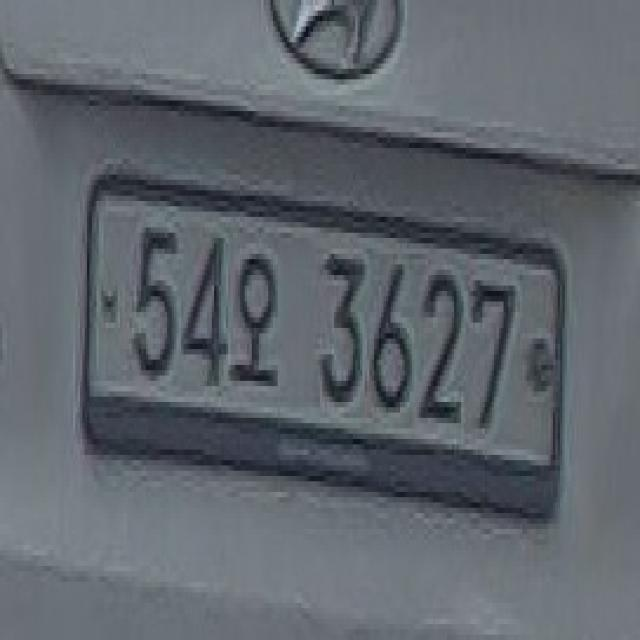2: (419, 259, 468, 444)
3: (308, 206, 367, 423)
4: (179, 185, 228, 386)
5: (129, 212, 179, 376)
6: (367, 243, 412, 413)
7: (459, 259, 520, 444)
license_plate: (73, 169, 565, 545)
o: (223, 249, 284, 407)
